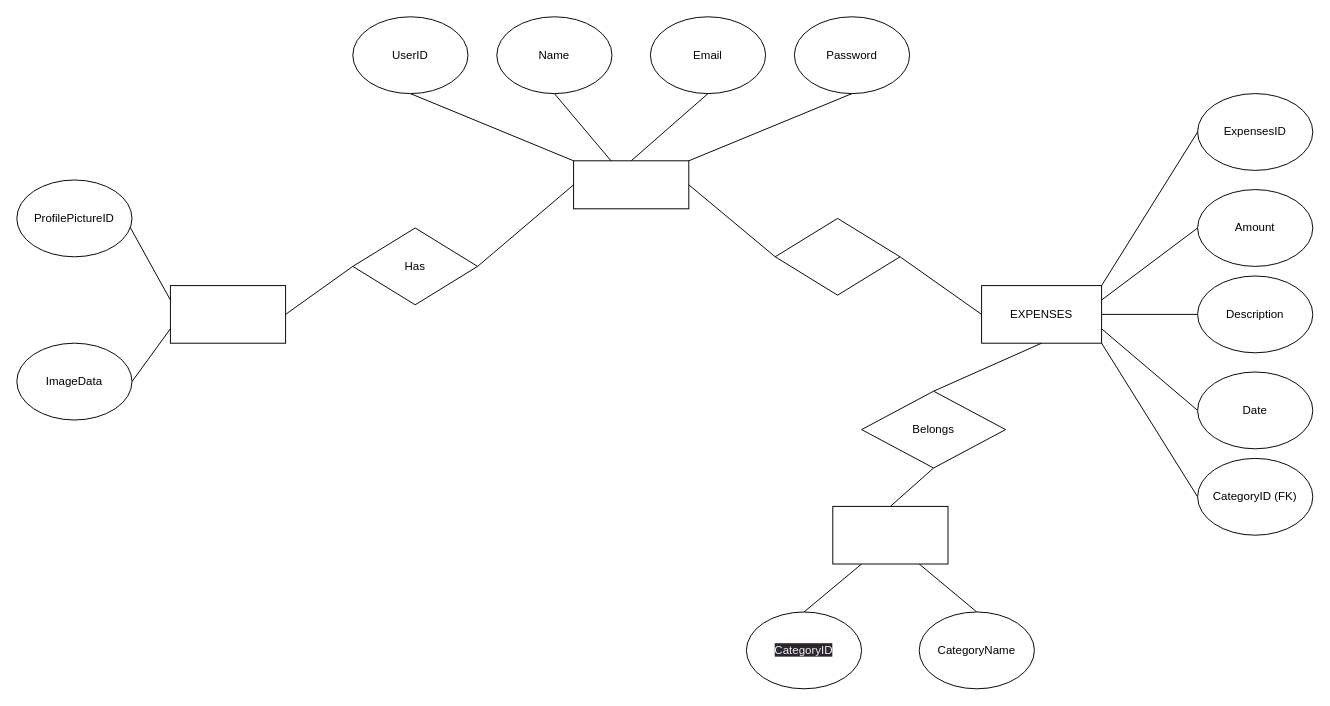
Some shapes in this 1330 by 706 pixel diagram are drawn without their labels. The centre of each missing label's shape, as x and y in pixels:
CATEGORIES: the point at 890,534
Makes: the point at 837,256
ProfilePictures: the point at 227,314
USERS: the point at 631,184
